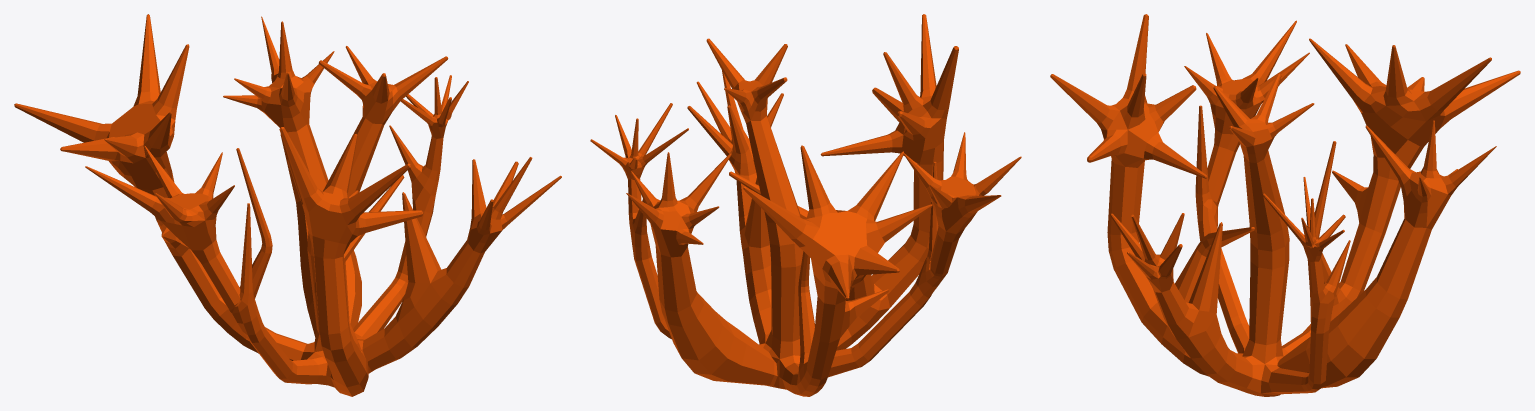
The model's file is tree-autumn-leaves-030.glb.
3 views of the same model, side by side, from view 1: azimuth 30°, elevation 25°; view 2: azimuth 150°, elevation 25°; view 3: azimuth 270°, elevation 25° (orthographic).
Parts seen in each view (by area): view 1: Plane.040_364; view 2: Plane.040_364; view 3: Plane.040_364.
Boxes of the visible parts, x1,y1,x2,y2 form: Plane.040_364: (14,14,561,396); Plane.040_364: (590,14,1021,396); Plane.040_364: (1050,14,1520,396).
Size of the model in its own units: 1.14 by 0.8953 by 1.19.
